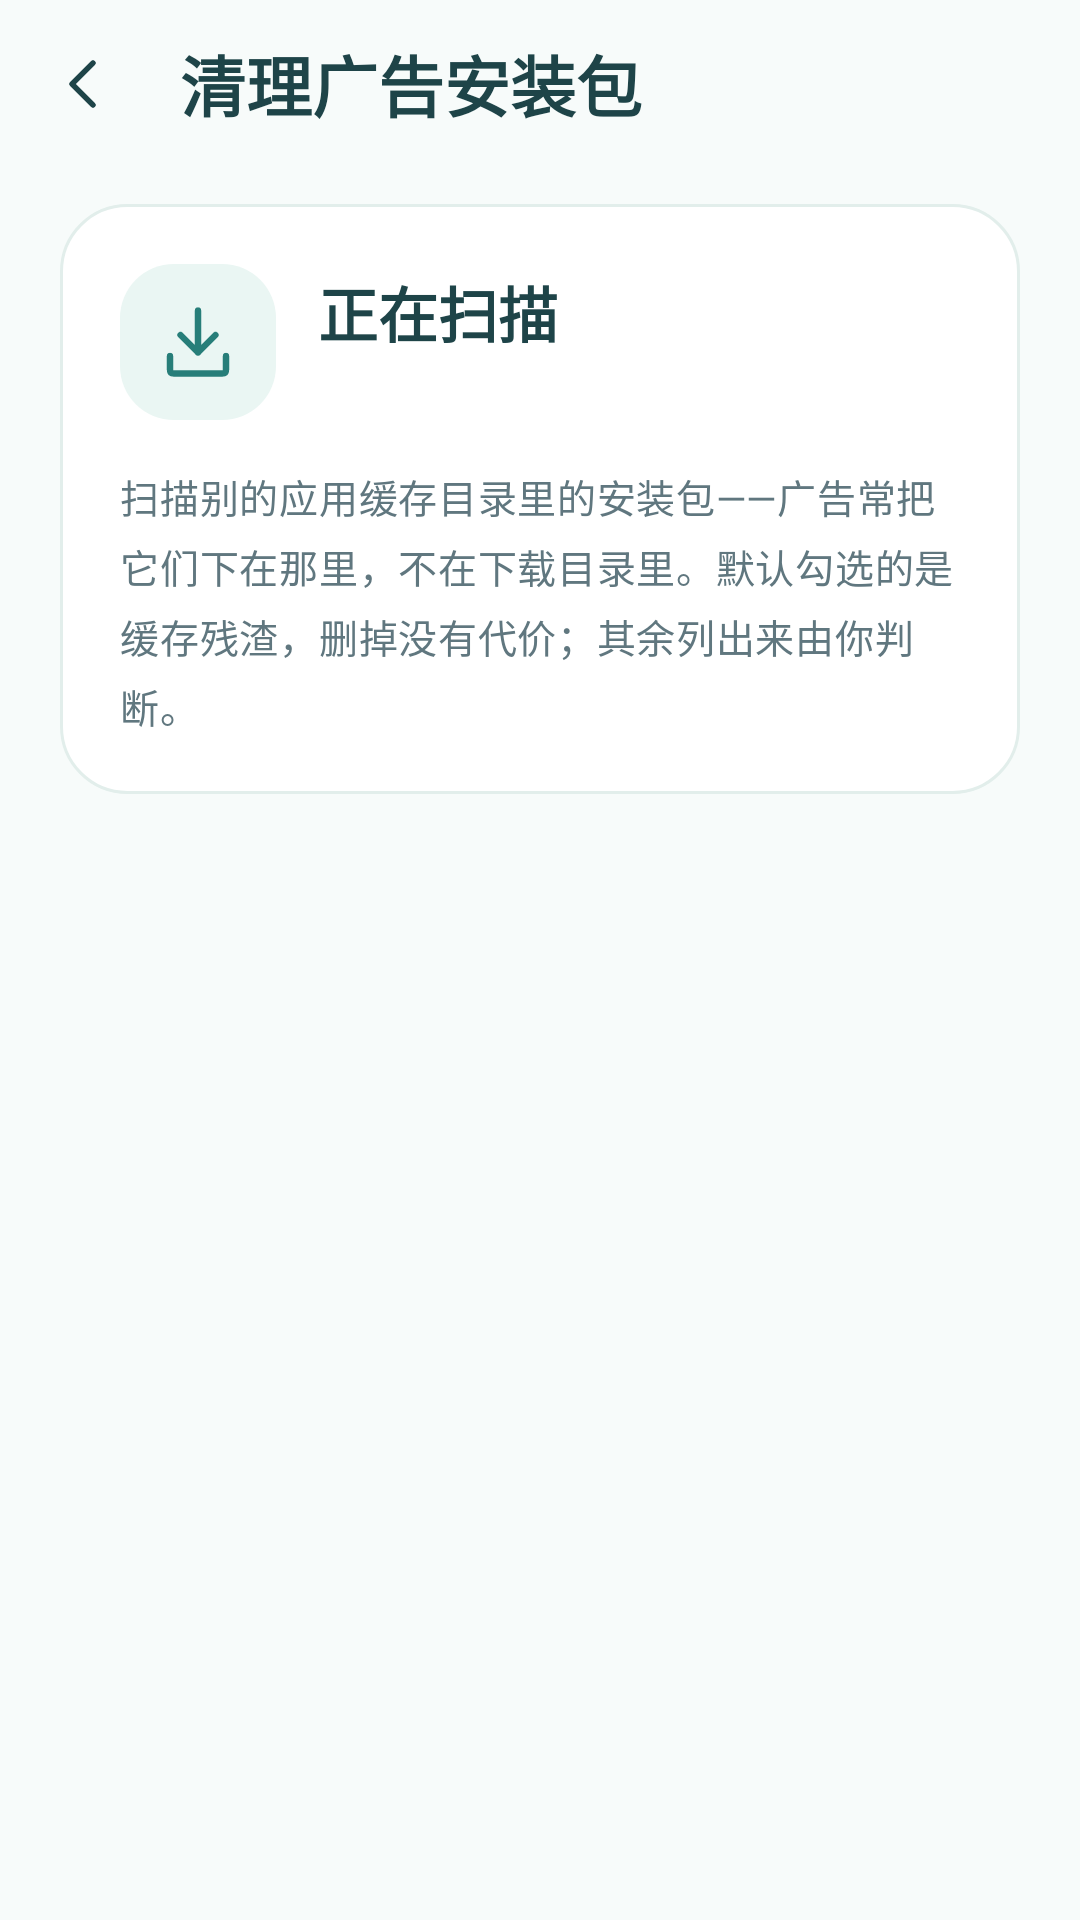

Locate icon controls on the screen. Image size 1080 × 1920, boxes as (x1, y1, x2, y2).
calm download: (120, 264, 276, 420)
